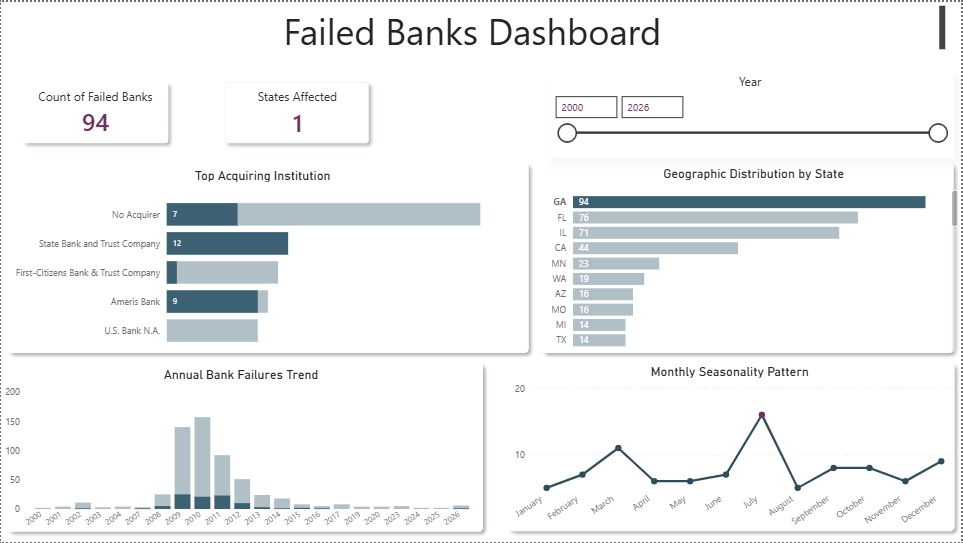

What the dashboard file says about the page in this screenshot:
{"tool":"powerbi","page":{"name":"Overview","canvas":[1280,720],"ordinal":0},"visuals":[{"type":"shape","box":[667.5,472.5,612.5,242.5],"z":1000},{"type":"shape","box":[0,471.7,651.7,243.3],"z":2000},{"type":"shape","box":[0,205.1,712.6,271.7],"z":2500},{"type":"shape","box":[712.6,205.1,567.4,271.7],"z":2750},{"type":"barChart","title":"Geographic Distribution by State","fields":{"Category":["Failed Banks.State "],"Y":["CountNonNull(Failed Banks.Bank Name )"]},"box":[726,218,554,254],"z":3000},{"type":"lineStackedColumnComboChart","title":"Annual Bank Failures Trend","fields":{"Category":["Calendar.Date.Variation.Date Hierarchy.Year","Calendar.Date.Variation.Date Hierarchy.Month"],"Y":["CountNonNull(Failed Banks.Bank Name )"]},"box":[0,480,640,240],"z":4000},{"type":"lineChart","title":"Monthly Seasonality Pattern","fields":{"Category":["Calendar.Month"],"Y":["CountNonNull(Failed Banks.Bank Name )"]},"box":[665,480,612.5,240],"z":5000},{"type":"textbox","box":[0,0,1264.3,70.6],"z":6000},{"type":"cardVisual","fields":{"Data":["Count(Failed Banks.State )"]},"box":[268.8,77.5,250,140],"z":7000},{"type":"slicer","title":"Year","fields":{"Values":["Calendar.Year"]},"box":[727.2,95,544.3,113.8],"z":8000},{"type":"clusteredBarChart","title":"Top Acquiring Institution ","fields":{"Category":["Failed Banks.Acquiring Institution "],"Y":["CountNonNull(Failed Banks.Bank Name )"]},"box":[0,218,698,254],"z":9000},{"type":"cardVisual","fields":{"Data":["_measuress.Count of Failed Banks"]},"box":[0,77.5,252.5,140],"z":10000}]}

Visuals, with their boxes in screenshot pixels (x1, y1, x2, y2), scaled from the page's 1280x720 canvas onto the 963x543 screenshot:
shape: crop(502, 356, 962, 539)
shape: crop(0, 356, 490, 539)
shape: crop(0, 155, 536, 360)
shape: crop(536, 155, 962, 360)
"Geographic Distribution by State" barChart: crop(546, 164, 962, 356)
"Annual Bank Failures Trend" lineStackedColumnComboChart: crop(0, 362, 482, 542)
"Monthly Seasonality Pattern" lineChart: crop(500, 362, 961, 542)
textbox: crop(0, 0, 951, 53)
cardVisual - Count(Failed Banks.State ): crop(202, 58, 390, 164)
"Year" slicer: crop(547, 72, 957, 157)
"Top Acquiring Institution " clusteredBarChart: crop(0, 164, 525, 356)
cardVisual - _measuress.Count of Failed Banks: crop(0, 58, 190, 164)
